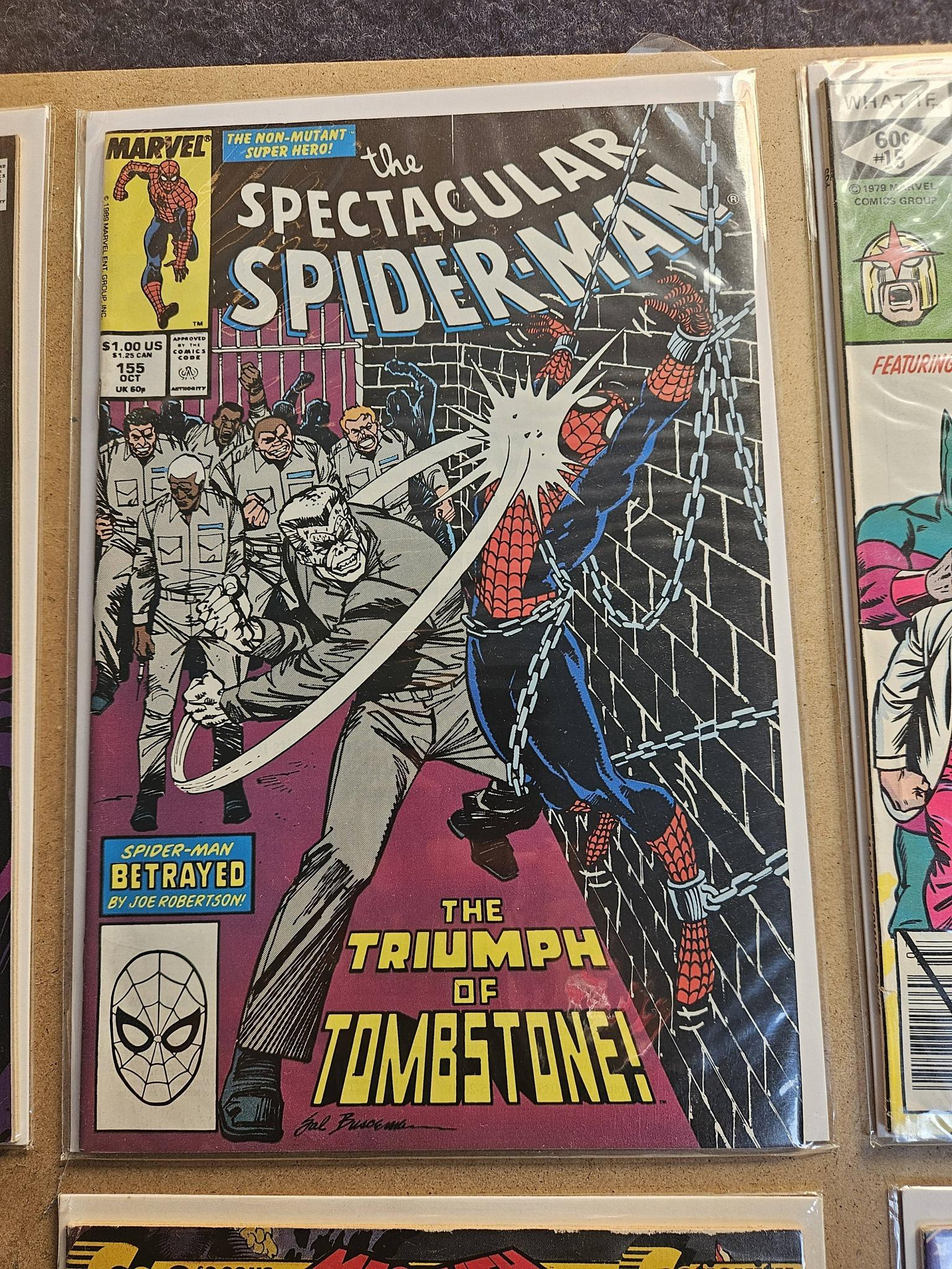comic: (41, 72, 827, 1168)
